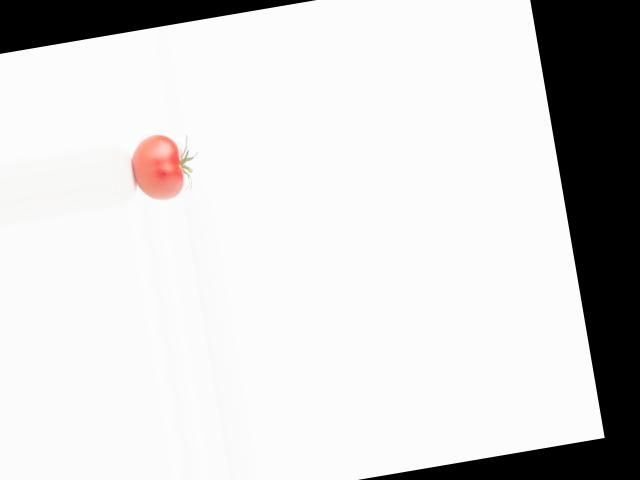tomato: (128, 130, 187, 203)
